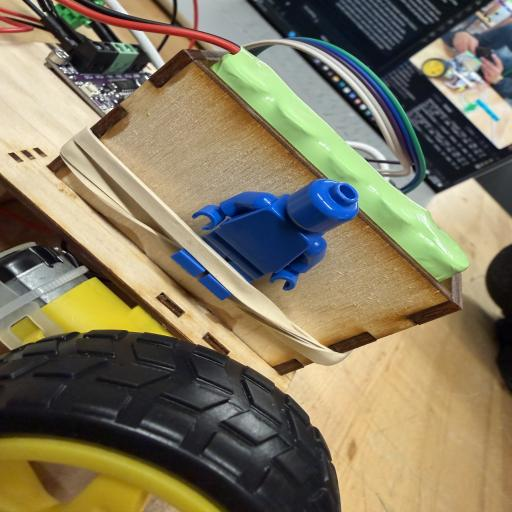Blue-Lego: (192, 179, 359, 291), (171, 249, 231, 300)
Green-Lego: (55, 4, 92, 30), (94, 0, 104, 5)
